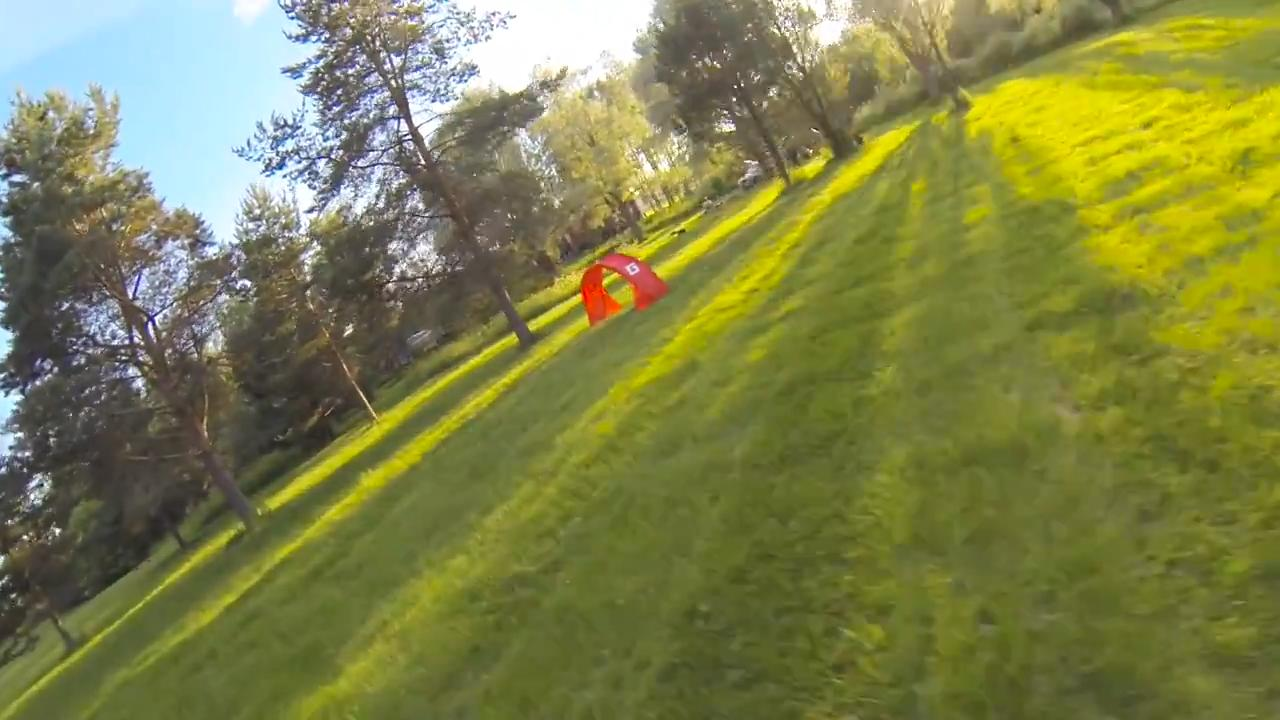gate: (575, 254, 673, 326)
